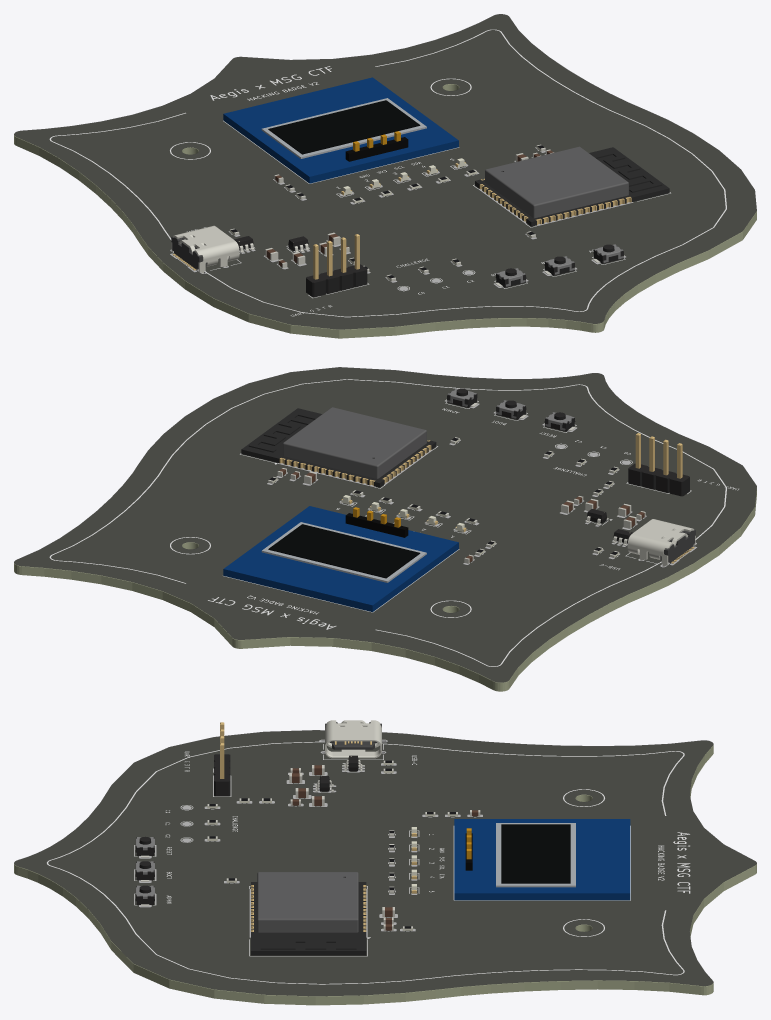
The model's file is hacking_box_v2_assembly_clean.glb.
The picture shows the model from 3 angles, top to bottom: view 1: azimuth 30°, elevation 25°; view 2: azimuth 150°, elevation 25°; view 3: azimuth 270°, elevation 25°; orthographic projection. The views are drawn at different scales.
Parts seen in each view (by area): view 1: =>[0:1:1:37], =>[0:1:1:35], OLED_0.96in_I2C (Shell) (×4), =>[0:1:1:23], =>[0:1:1:33], =>[0:1:1:17], =>[0:1:1:13], =>[0:1:1:32]; view 2: =>[0:1:1:37], =>[0:1:1:35], OLED_0.96in_I2C (Shell) (×4), =>[0:1:1:23], =>[0:1:1:33], =>[0:1:1:17], =>[0:1:1:13], =>[0:1:1:32]; view 3: =>[0:1:1:37], =>[0:1:1:35], OLED_0.96in_I2C (Shell) (×3), =>[0:1:1:23], =>[0:1:1:33], =>[0:1:1:17], =>[0:1:1:32], =>[0:1:1:13].
Boxes of the visible parts, x1,y1,x2,y2 form: =>[0:1:1:37]: [14, 15, 756, 338]; =>[0:1:1:35]: [14, 14, 756, 329]; OLED_0.96in_I2C (Shell) (×4): [223, 77, 458, 183]; =>[0:1:1:23]: [475, 146, 669, 226]; =>[0:1:1:33]: [49, 29, 726, 317]; =>[0:1:1:17]: [171, 225, 239, 273]; =>[0:1:1:13]: [306, 234, 367, 297]; =>[0:1:1:32]: [170, 147, 633, 290]; =>[0:1:1:37]: [14, 368, 756, 691]; =>[0:1:1:35]: [14, 367, 756, 682]; OLED_0.96in_I2C (Shell) (×4): [223, 506, 458, 612]; =>[0:1:1:23]: [241, 407, 436, 487]; =>[0:1:1:33]: [49, 379, 738, 666]; =>[0:1:1:17]: [627, 519, 695, 566]; =>[0:1:1:13]: [628, 433, 689, 496]; =>[0:1:1:32]: [267, 399, 696, 567]; =>[0:1:1:37]: [14, 731, 756, 1005]; =>[0:1:1:35]: [14, 730, 756, 996]; OLED_0.96in_I2C (Shell) (×3): [454, 819, 630, 900]; =>[0:1:1:23]: [251, 872, 366, 955]; =>[0:1:1:33]: [47, 741, 690, 984]; =>[0:1:1:17]: [325, 720, 381, 758]; =>[0:1:1:32]: [139, 739, 482, 937]; =>[0:1:1:13]: [214, 722, 230, 796].
Size of the model in its own units: 0.0984 by 0.0115 by 0.116.
